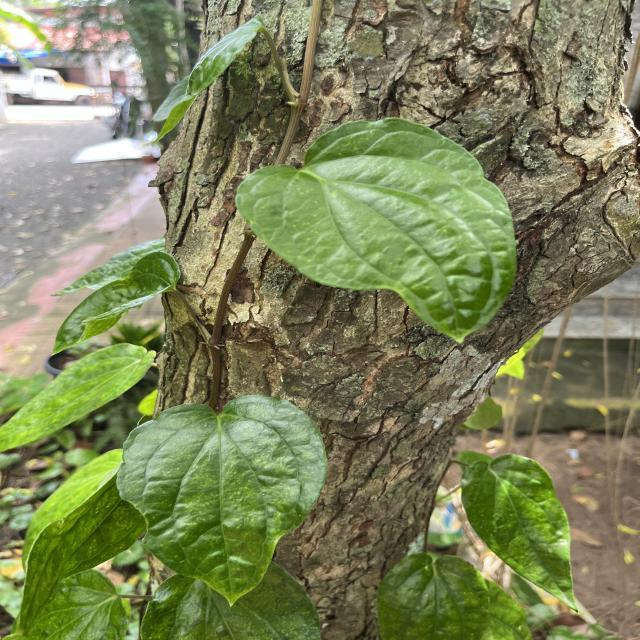Piper betle: (111, 392, 332, 610)
